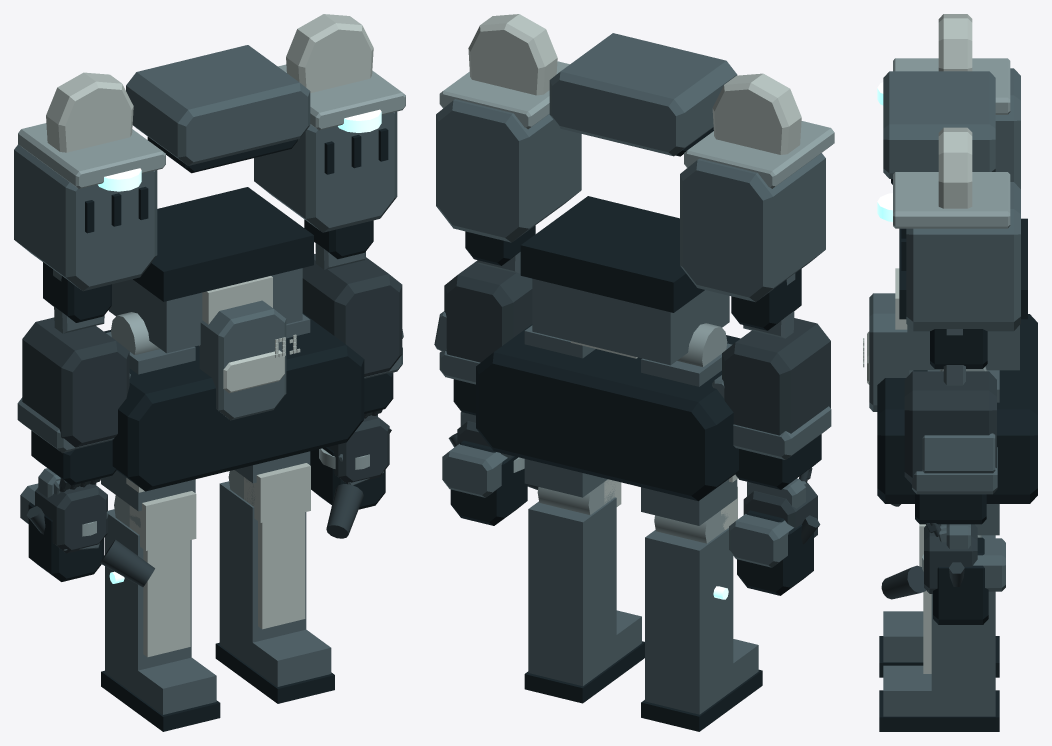
File: player-sentinel-p01.glb
The picture shows the model from 3 angles, left to right: view 1: azimuth 30°, elevation 25°; view 2: azimuth 150°, elevation 25°; view 3: azimuth 270°, elevation 25°; orthographic projection. The views are drawn at different scales.
Visible parts, largest first — view 1: P01_Chest_P01_Undersuit, P01_Hips, P01_Head_P01_Armor, P01_Shoulder_L_P01_Armor, P01_Shin_R, P01_Shoulder_R_P01_Armor, P01_Forearm_L_P01_Glove, P01_Shin_L, P01_Forearm_R_P01_Glove, P01_Chest_P01_Armor, P01_Foot_R, P01_Foot_L (+26 smaller); view 2: P01_Chest_P01_Undersuit, P01_Hips, P01_Shoulder_L_P01_Armor, P01_Shoulder_R_P01_Armor, P01_Head_P01_Armor, P01_Shin_R, P01_Shin_L, P01_Forearm_L_P01_Glove, P01_Forearm_R_P01_Glove, P01_Shoulder_L_P01_Shell, P01_Shoulder_R_P01_Shell, P01_Foot_L (+19 smaller); view 3: P01_Shoulder_R_P01_Armor, P01_Chest_P01_Undersuit, P01_Head_P01_Armor, P01_Forearm_R_P01_Glove, P01_Shin_R, P01_Foot_R, P01_Shoulder_R_P01_Alloy, P01_Forearm_R_P01_Armor, P01_Hips, P01_Hand_R_P01_Glove, P01_Chest_P01_Armor, P01_Hand_R_P01_Undersuit (+11 smaller).
Boxes of the visible parts, x1,y1,x2,y2 form: P01_Chest_P01_Undersuit: (104, 313, 364, 491); P01_Hips: (108, 187, 313, 353); P01_Head_P01_Armor: (126, 45, 310, 165); P01_Shoulder_L_P01_Armor: (14, 144, 157, 291); P01_Shin_R: (219, 481, 306, 649); P01_Shoulder_R_P01_Armor: (254, 111, 397, 232); P01_Forearm_L_P01_Glove: (22, 317, 129, 447); P01_Shin_L: (105, 509, 191, 677); P01_Forearm_R_P01_Glove: (302, 253, 402, 376); P01_Chest_P01_Armor: (199, 300, 286, 420); P01_Foot_R: (215, 619, 334, 703); P01_Foot_L: (101, 649, 220, 731); P01_Chest_P01_Undersuit: (476, 324, 740, 501); P01_Hips: (520, 196, 729, 365); P01_Shoulder_L_P01_Armor: (680, 153, 825, 302); P01_Shoulder_R_P01_Armor: (436, 99, 581, 242); P01_Head_P01_Armor: (549, 33, 737, 156); P01_Shin_R: (528, 497, 616, 666); P01_Shin_L: (645, 528, 733, 693); P01_Forearm_L_P01_Glove: (722, 318, 830, 435); P01_Forearm_R_P01_Glove: (444, 261, 532, 362); P01_Shoulder_L_P01_Shell: (712, 73, 801, 154); P01_Shoulder_R_P01_Shell: (468, 14, 557, 95); P01_Foot_L: (641, 639, 762, 731); P01_Shoulder_R_P01_Armor: (906, 182, 1020, 331); P01_Chest_P01_Undersuit: (877, 314, 1037, 503); P01_Head_P01_Armor: (883, 71, 995, 178); P01_Forearm_R_P01_Glove: (904, 371, 996, 484); P01_Shin_R: (923, 535, 995, 698); P01_Foot_R: (879, 665, 999, 731); P01_Shoulder_R_P01_Alloy: (893, 172, 1010, 228); P01_Forearm_R_P01_Armor: (912, 433, 997, 494); P01_Hips: (895, 218, 1027, 370); P01_Hand_R_P01_Glove: (881, 523, 977, 599); P01_Chest_P01_Armor: (869, 293, 913, 411); P01_Hand_R_P01_Undersuit: (933, 537, 988, 624).
Size of the model in its own units: 1.01 by 1.69 by 0.4355.
